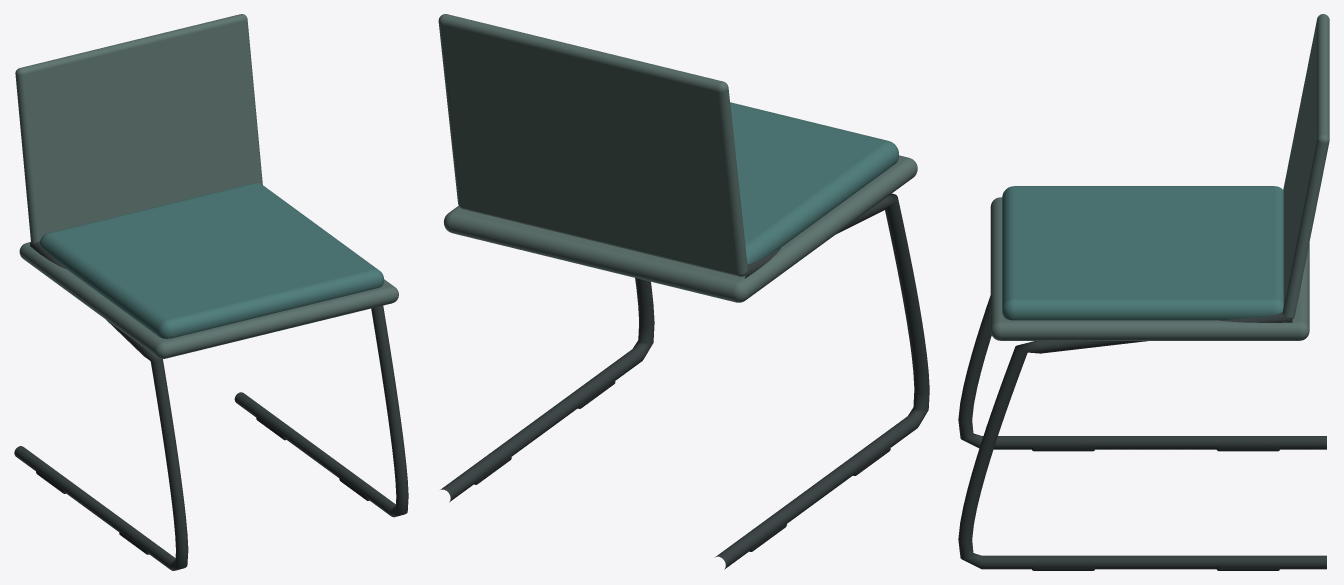
Rendered from atelier-sidechair-teal.glb.
3 renders of one model, left to right at view 1: azimuth 30°, elevation 25°; view 2: azimuth 150°, elevation 25°; view 3: azimuth 270°, elevation 25°, orthographic. The views are drawn at different scales.
Visible parts, largest first — view 1: mesh_9, mesh_8, mesh_7, mesh_0, mesh_3; view 2: mesh_9, mesh_8, mesh_7, mesh_0, mesh_3; view 3: mesh_8, mesh_3, mesh_7, mesh_9, mesh_0.
Boxes of the visible parts, bbox=[...] form: mesh_9: bbox=[15, 14, 262, 243]; mesh_8: bbox=[39, 183, 383, 338]; mesh_7: bbox=[19, 242, 398, 358]; mesh_0: bbox=[14, 241, 188, 570]; mesh_3: bbox=[234, 305, 408, 517]; mesh_9: bbox=[438, 14, 747, 276]; mesh_8: bbox=[730, 102, 898, 264]; mesh_7: bbox=[444, 155, 917, 302]; mesh_0: bbox=[715, 193, 929, 569]; mesh_3: bbox=[440, 278, 654, 502]; mesh_8: bbox=[1002, 186, 1283, 320]; mesh_3: bbox=[958, 312, 1326, 569]; mesh_7: bbox=[990, 197, 1309, 340]; mesh_9: bbox=[1282, 14, 1329, 319]; mesh_0: bbox=[958, 295, 1326, 449].
Size of the model in its own units: 0.5076 by 0.7797 by 0.6039.
